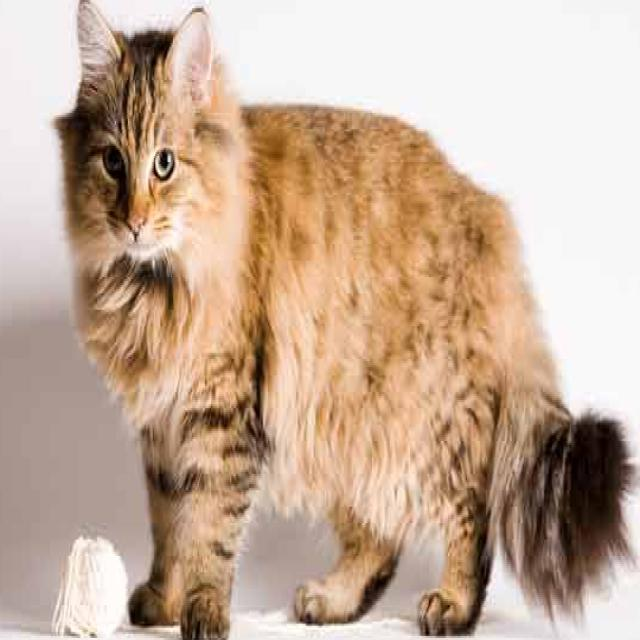Maine Coon: (49, 0, 632, 640)
